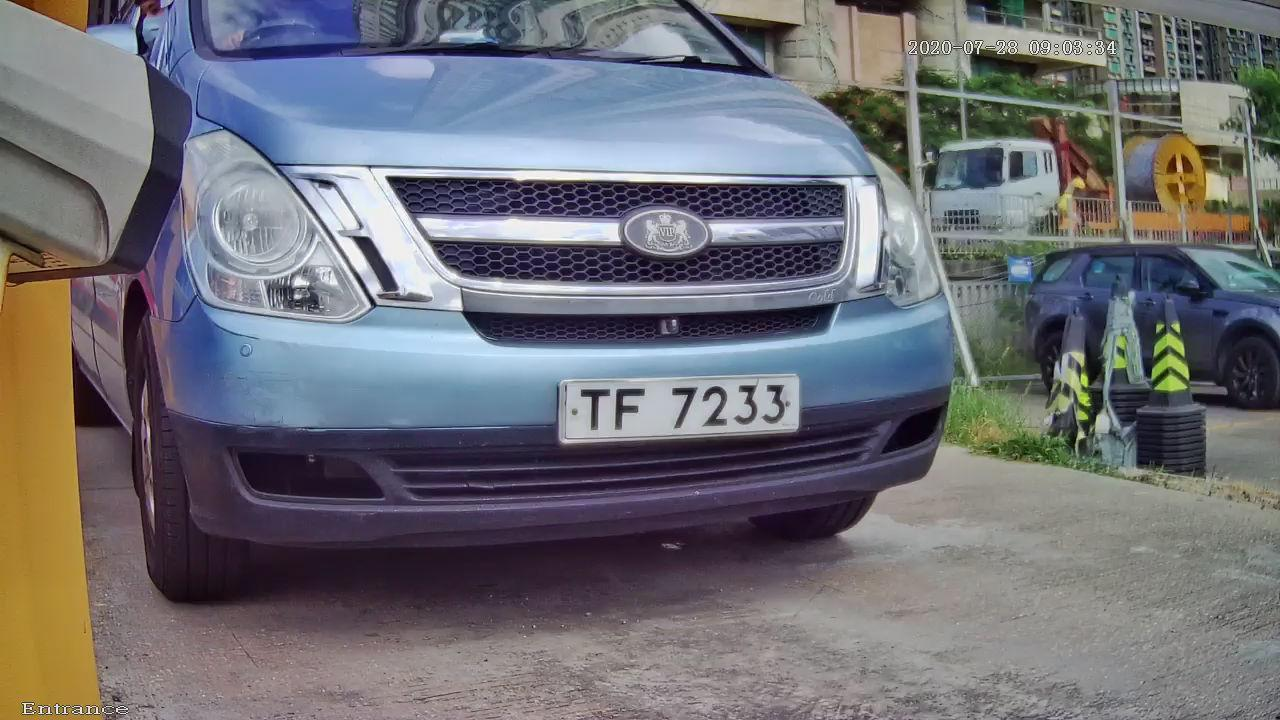privatecar: (52, 7, 1081, 624)
